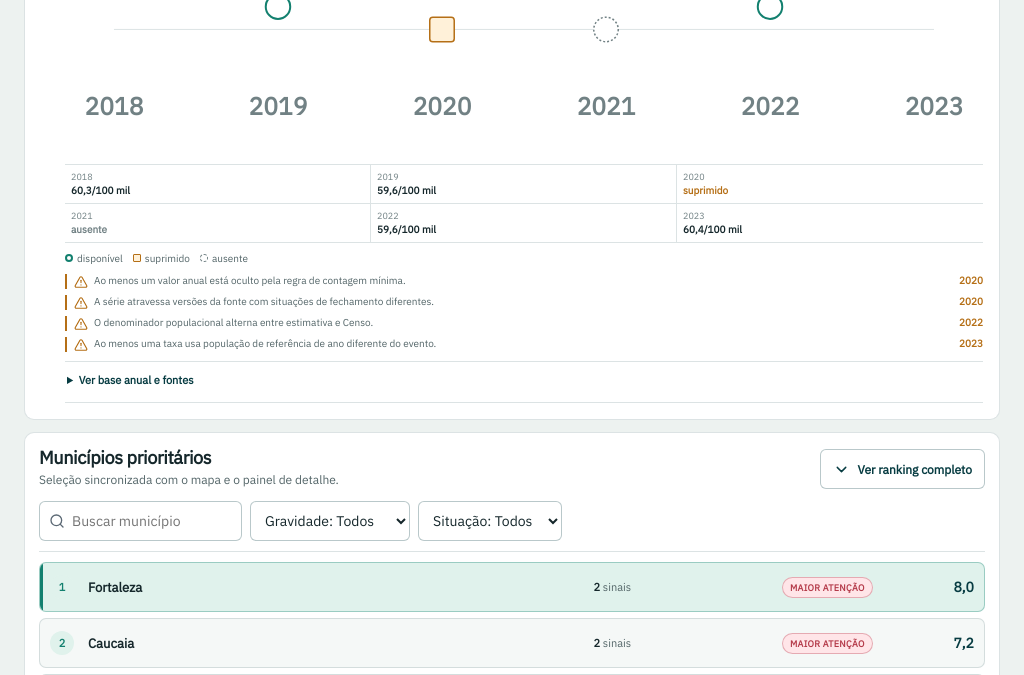
Test: App › shows auditable annual incidence without inferring a trend
(page scrolled)
Expected: the text "suprimido" is shown, [683, 184, 728, 197]
Expected: the text "ausente" is shown, [71, 223, 107, 236]
Click the heading "Ver base anual e fontes". click: (136, 380)
box: [79, 373, 194, 387]
(page scrolled)
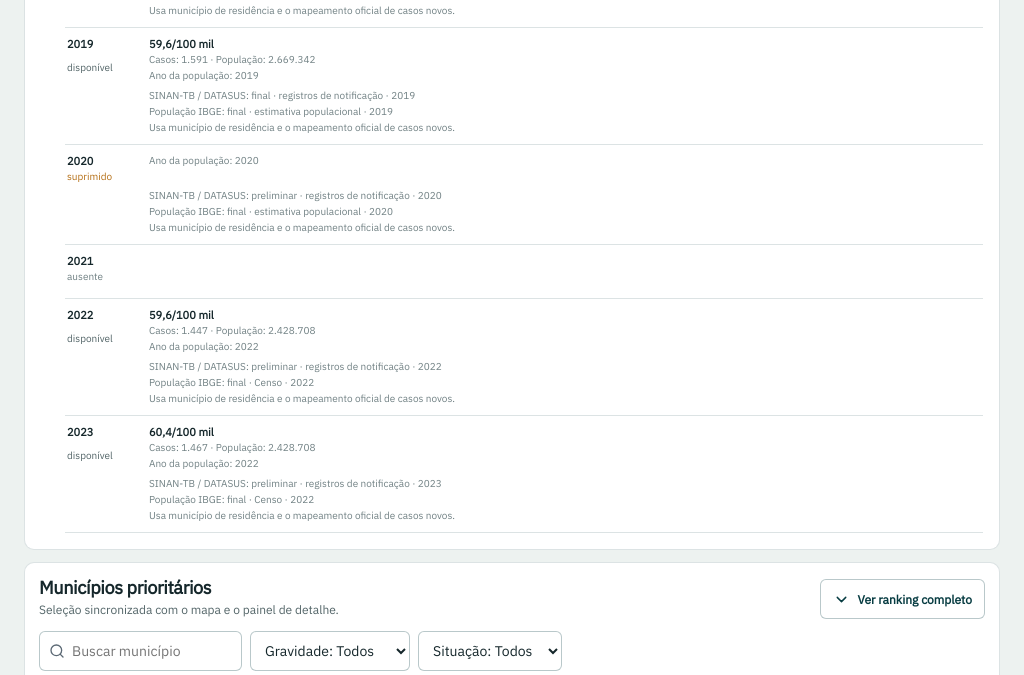
Now the text "População IBGE: final · Censo · 2022" below "Casos: 1.447 · População: 2.428.708" is shown, box [149, 376, 314, 389]
